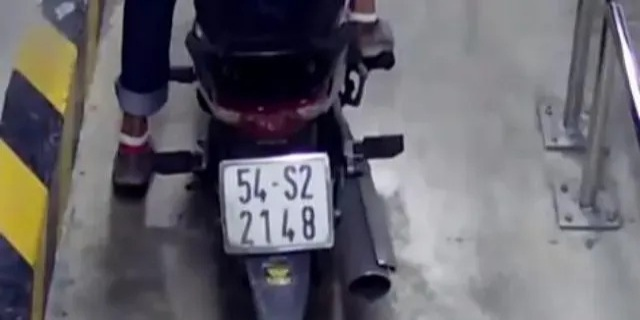bien_so: (219, 159, 335, 250)
